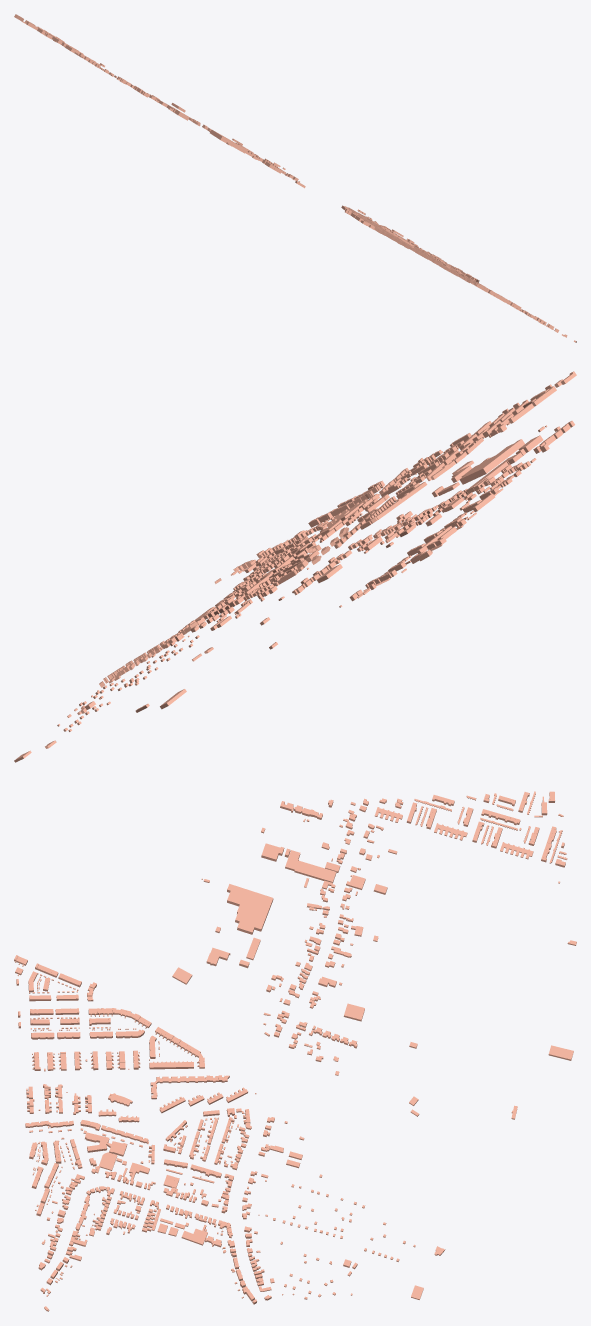
3 renders of one model, top to bottom at view 1: azimuth 30°, elevation 25°; view 2: azimuth 150°, elevation 25°; view 3: azimuth 270°, elevation 25°, orthographic. The views are drawn at different scales.
Bounding box in the file's own units: 1051 × 745 × 1204.
